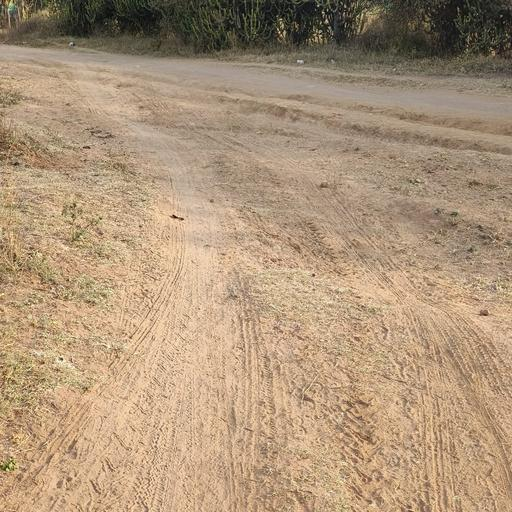vehicle_track: (163, 107, 512, 512), (0, 72, 250, 512), (104, 59, 512, 121)
